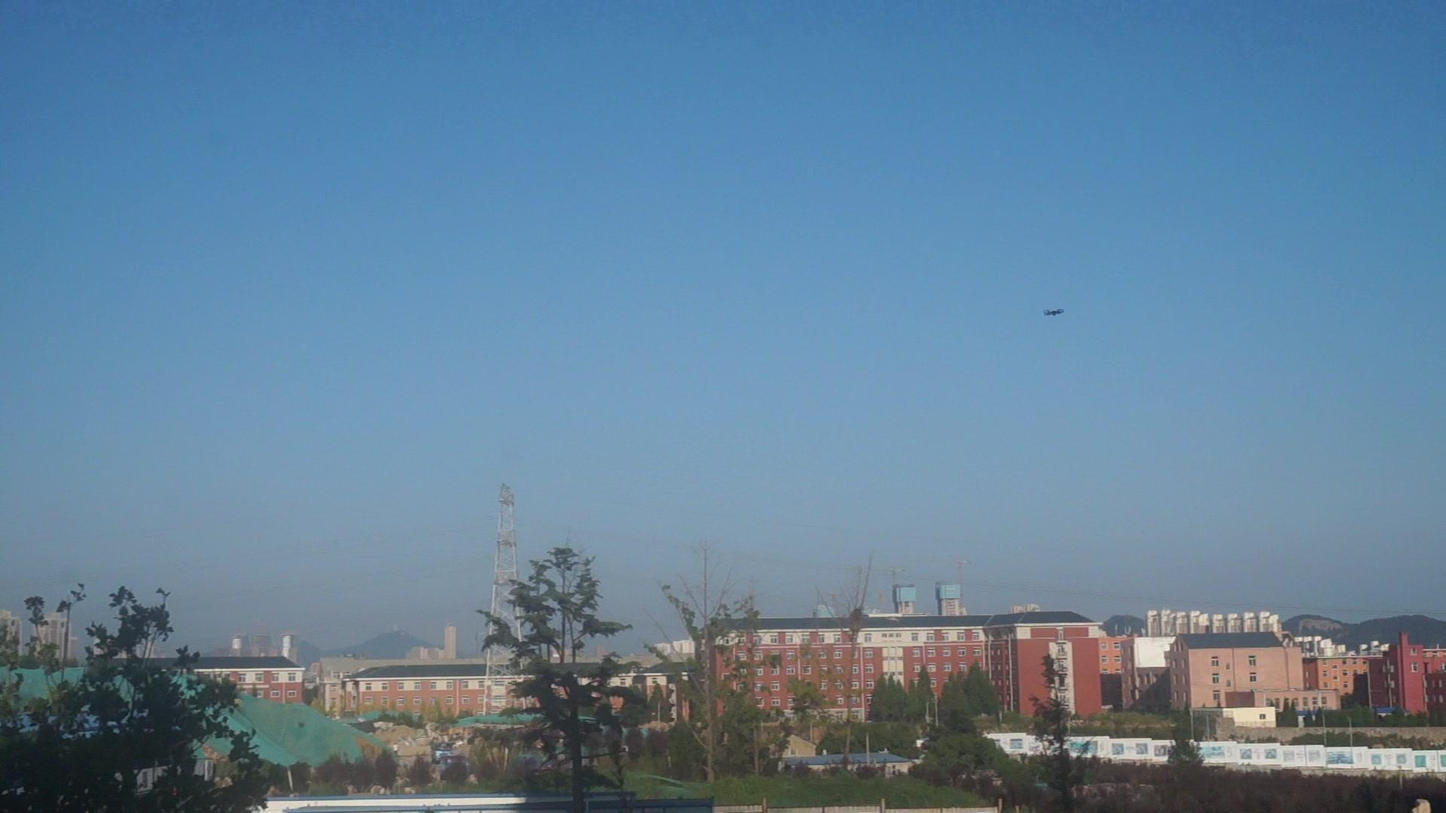UAV: (1043, 309, 1066, 317)
